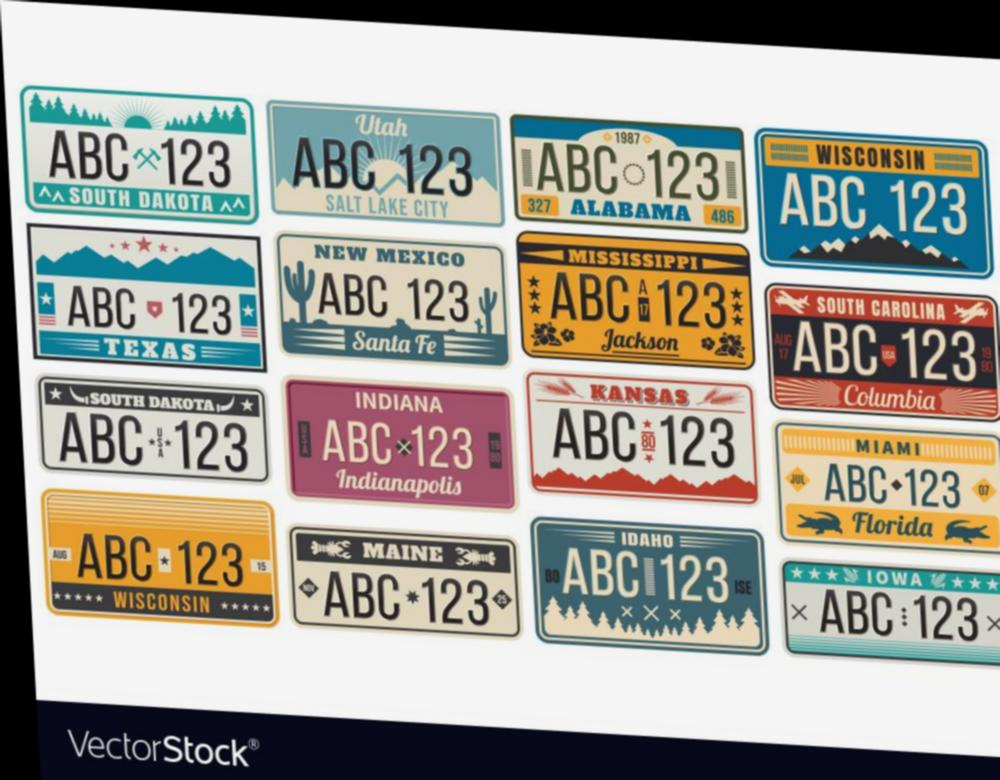License_Plate: (25, 85, 1000, 668)
